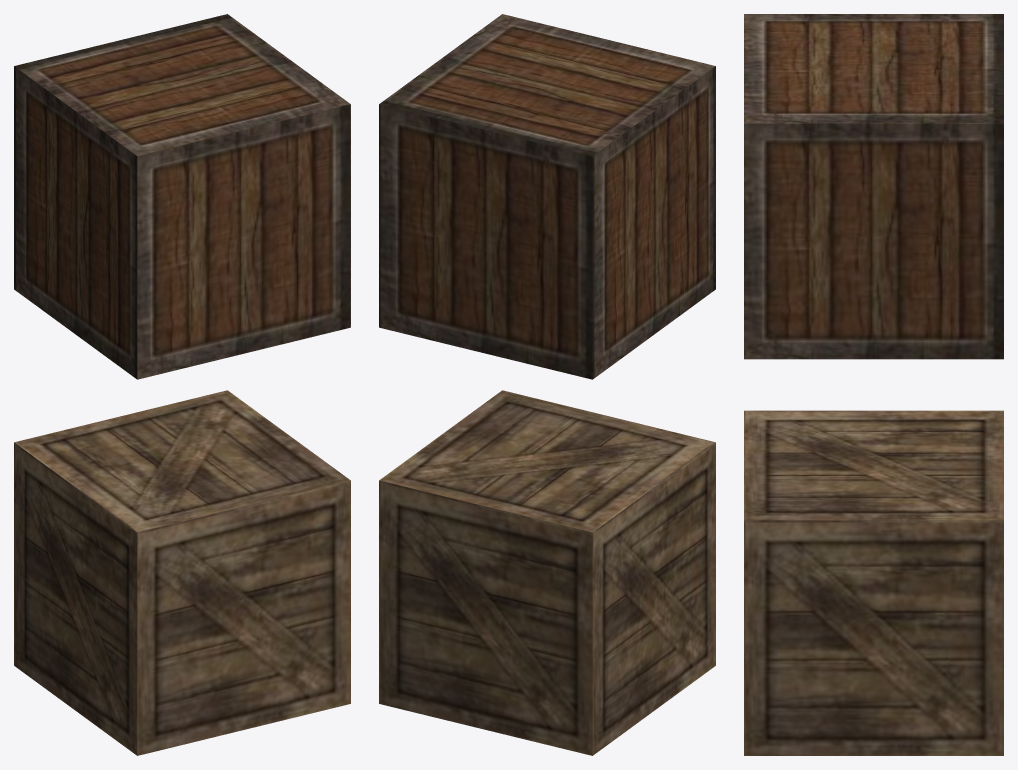
Rendered from boxes.obj.
The picture shows the model from 3 angles, left to right: view 1: azimuth 30°, elevation 25°; view 2: azimuth 150°, elevation 25°; view 3: azimuth 270°, elevation 25°; orthographic projection. The views are drawn at different scales.
Visible parts, largest first — view 1: Material2_Cube, Cube.001; view 2: Material2_Cube, Cube.001; view 3: Material2_Cube, Cube.001.
Part boxes in pixels (bbox=[...]): Material2_Cube: bbox=[14, 390, 350, 755]; Cube.001: bbox=[14, 14, 350, 379]; Material2_Cube: bbox=[379, 390, 715, 755]; Cube.001: bbox=[379, 14, 715, 379]; Material2_Cube: bbox=[744, 410, 1003, 755]; Cube.001: bbox=[744, 14, 1003, 359].
Bounding box in the file's own units: 2 × 5.37 × 2.
